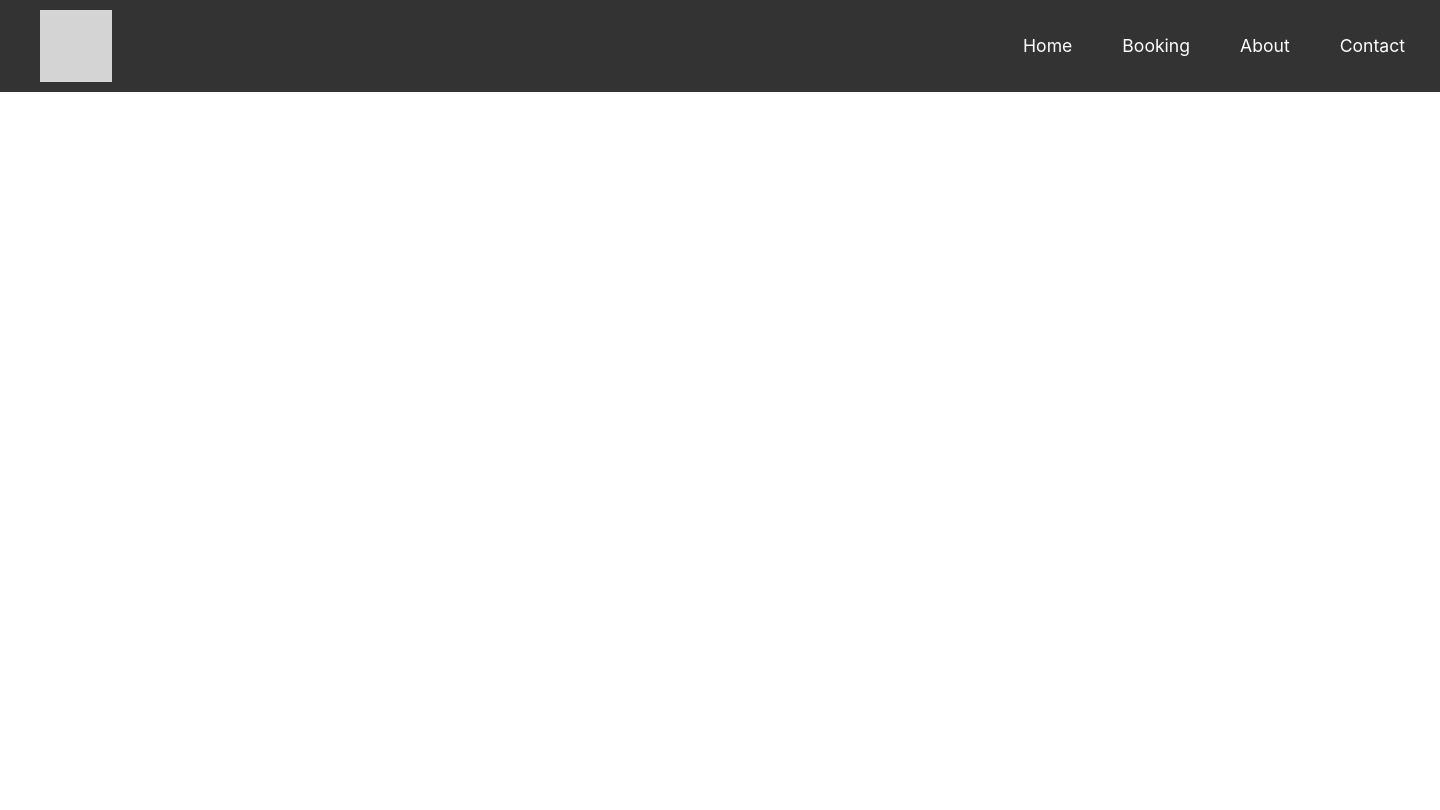
Test: Nav › opens and closes the contact dialog
Click the button "Contact": point(1372, 46) [1325,27,1420,65]
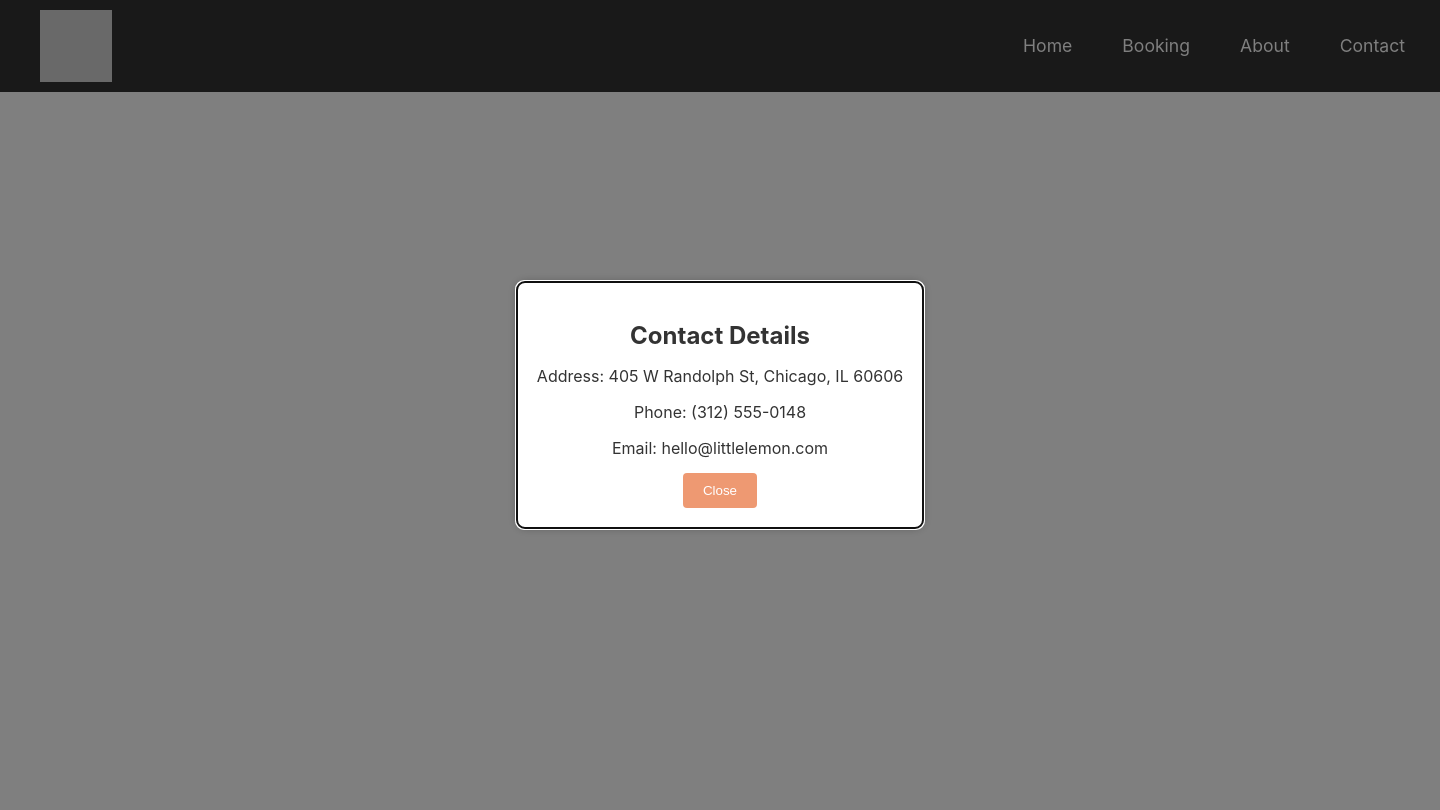
Now the dialog is shown, box [517,282,923,528]
Now the heading "Contact Details" is shown, box [630,322,810,350]
Click the button "Close": point(720, 491) [683,474,757,508]
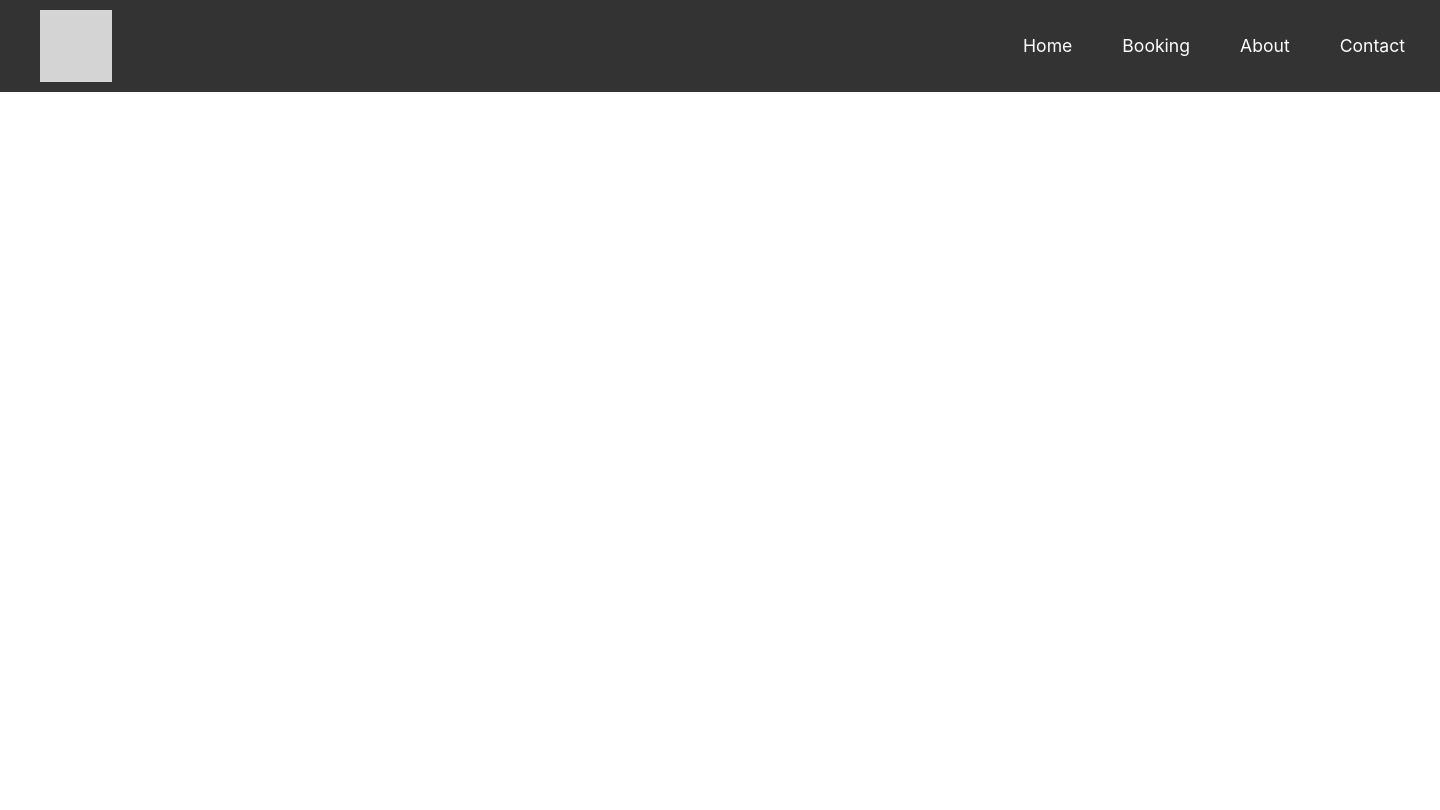
Now the dialog is gone
